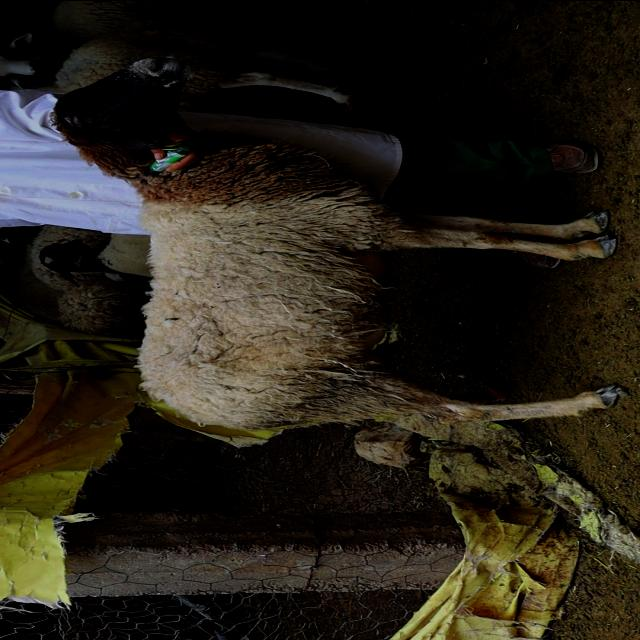Score_2: (54, 58, 622, 430)
